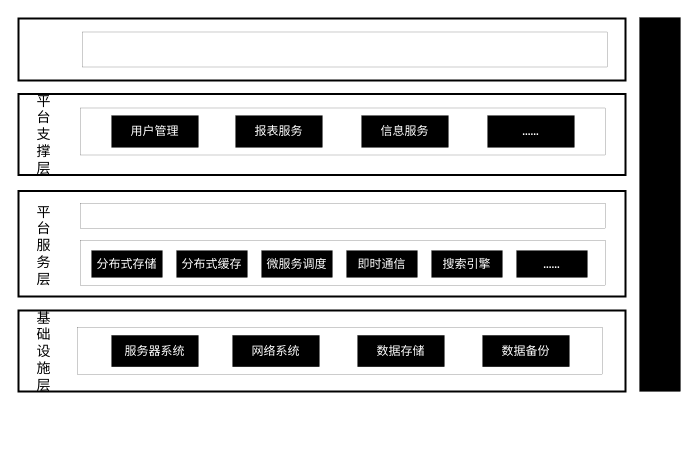
This 698x462 diagram has some shape labels left out. The shapes that lost their labels are listed below. From the top down, each one's centre as x and y in pixels, then its label:
At [344,49]: "智慧港口信息平台".
At [342,215]: "共享服务中心".
At [659,204]: "运 维 管 控 及 接 口".
